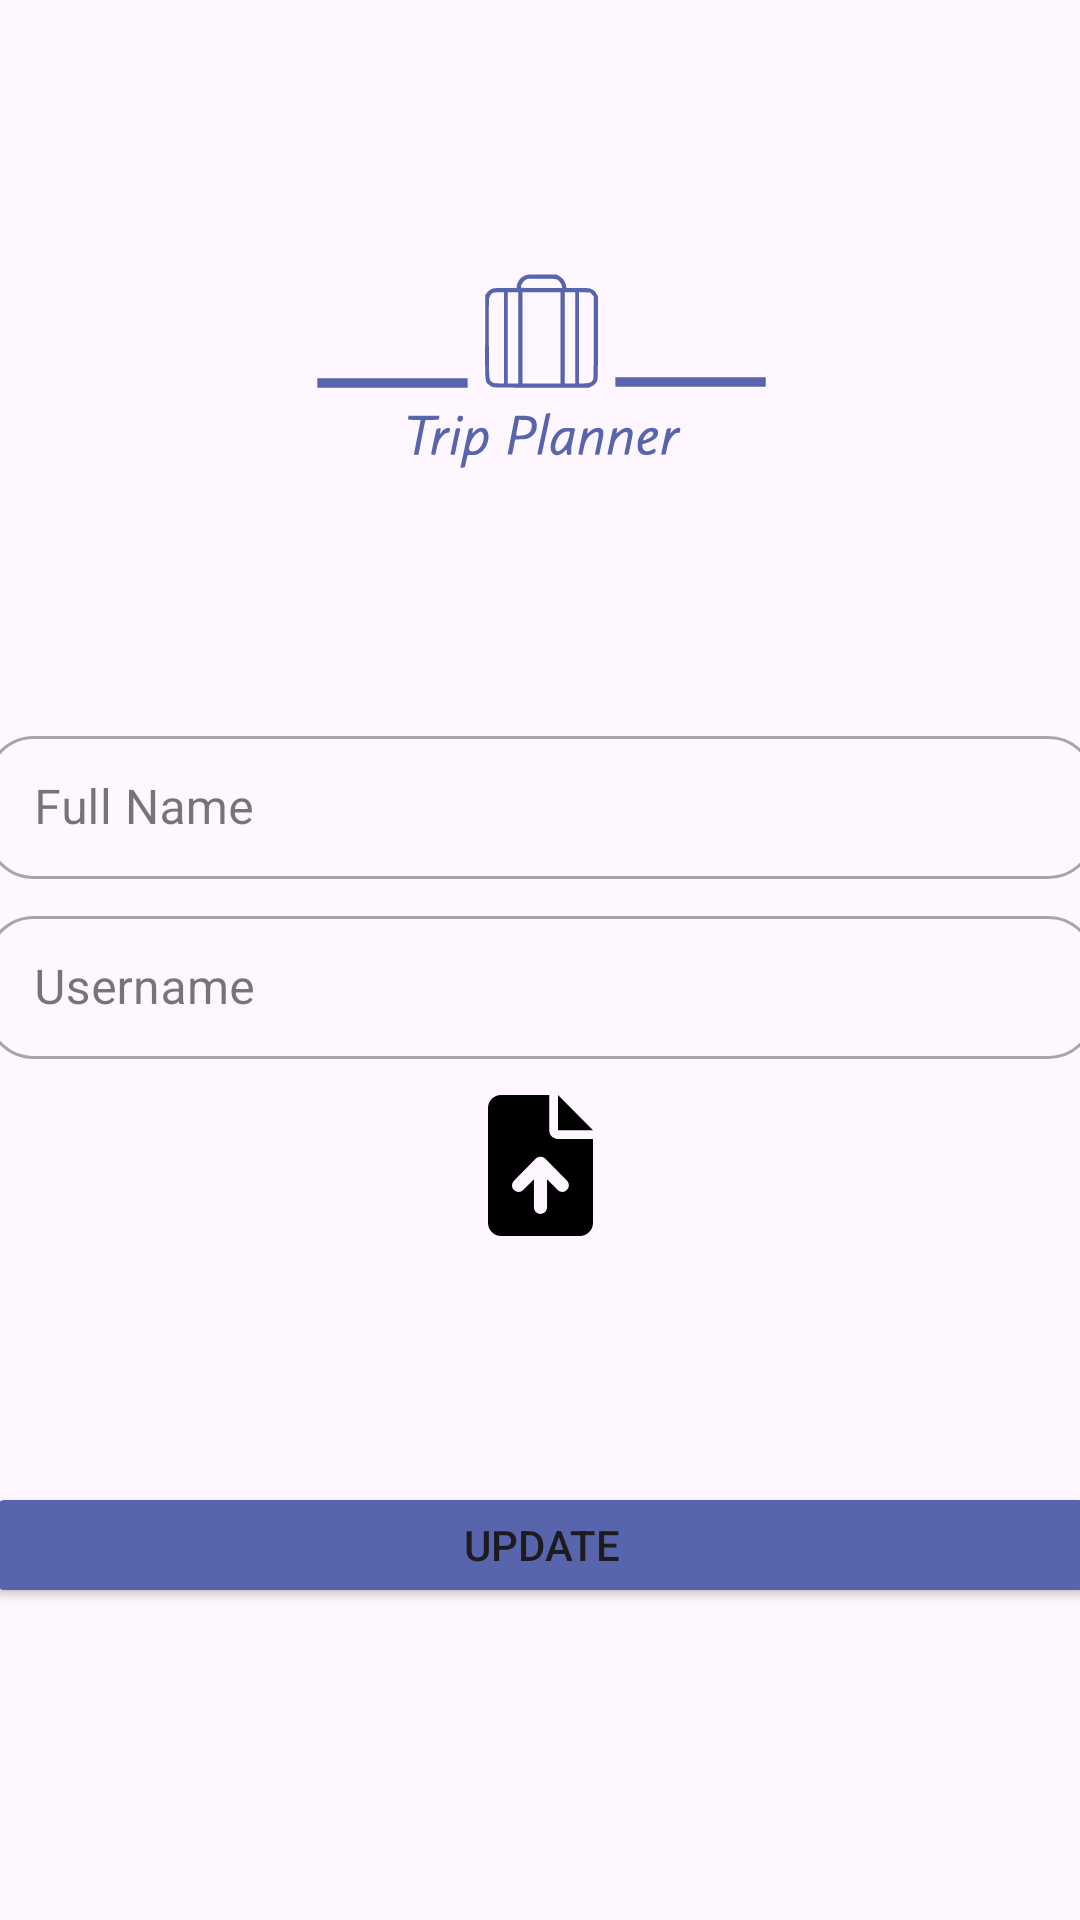

Screen size 1080x1920. Icon name, then its center in pixels as (x,y):
file arrow up: (540,1165)
